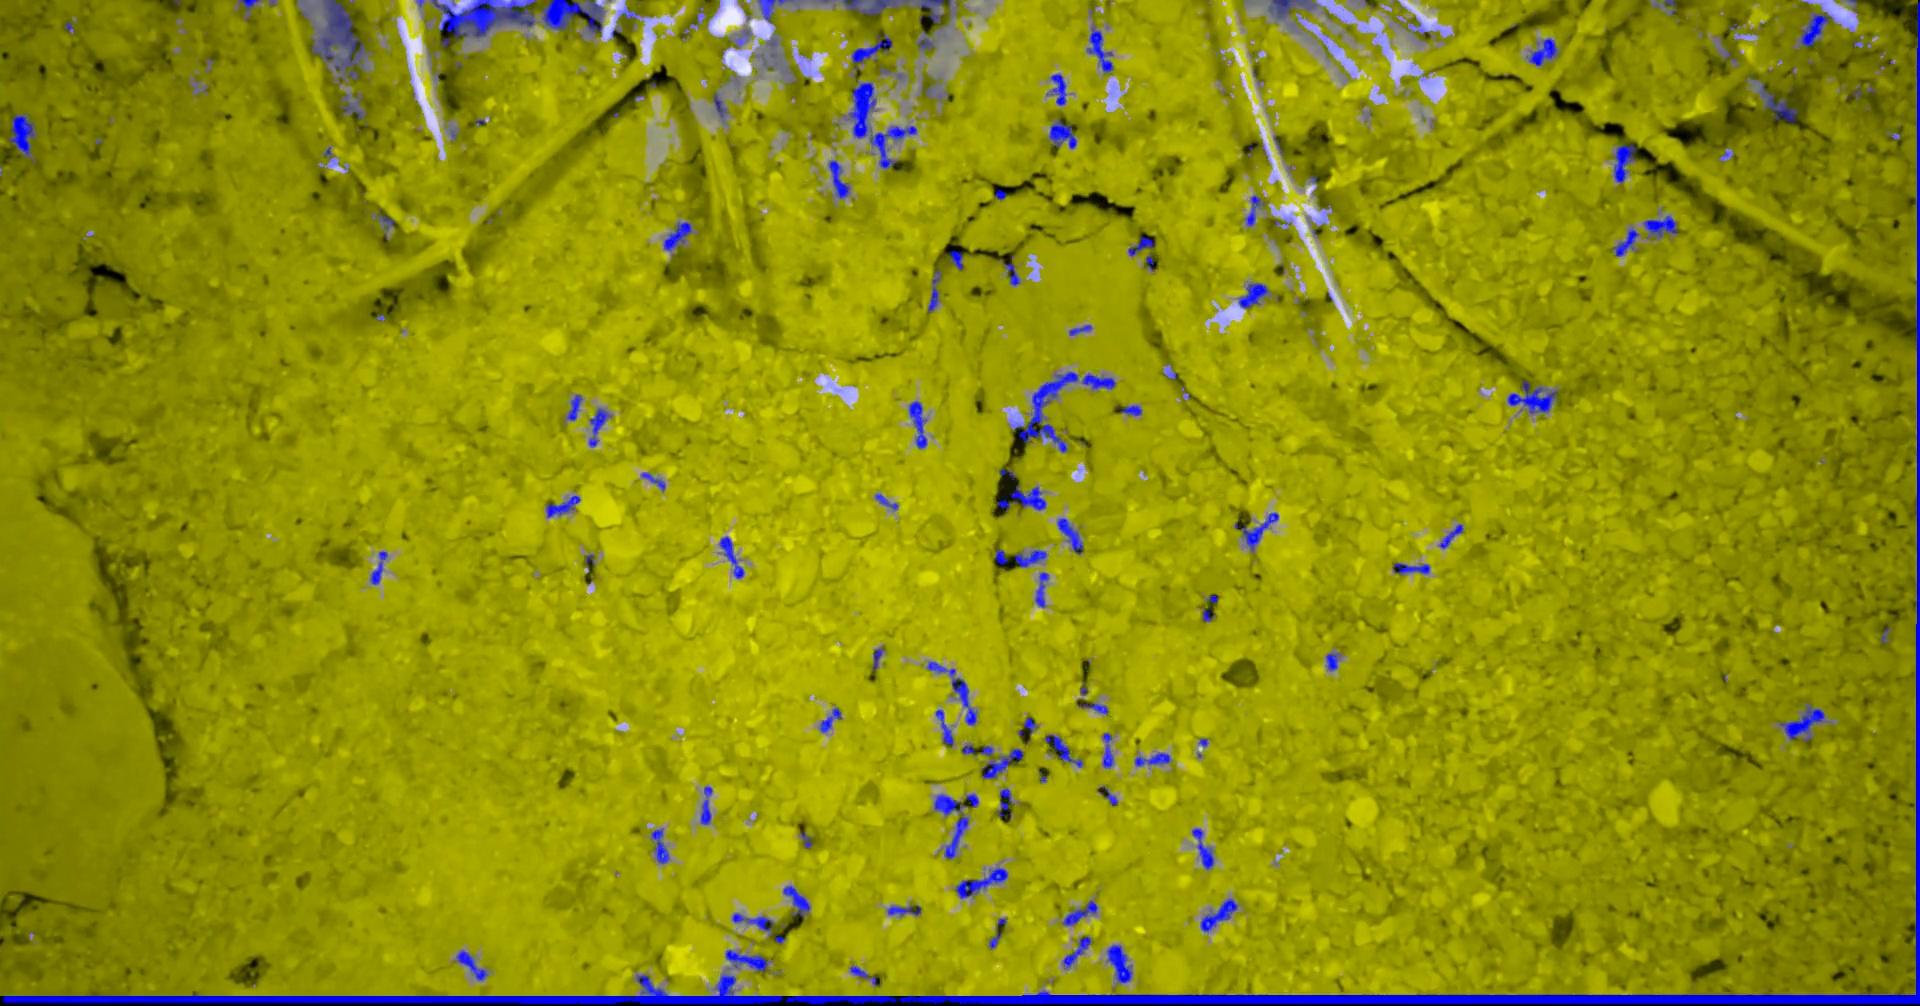ant: (926, 661, 977, 724), (933, 794, 968, 857), (1507, 379, 1557, 413), (1234, 512, 1277, 550), (955, 868, 1007, 898), (851, 32, 891, 70), (1779, 706, 1823, 741), (1760, 83, 1797, 122), (996, 484, 1045, 511), (982, 748, 1023, 779), (1044, 734, 1082, 767), (1199, 898, 1237, 931), (1086, 27, 1112, 72), (9, 113, 34, 156), (1801, 11, 1832, 46), (841, 0, 908, 15), (719, 536, 743, 578), (1106, 944, 1131, 982), (456, 950, 488, 981), (731, 912, 773, 935), (1057, 518, 1083, 553), (1063, 935, 1090, 969), (725, 949, 767, 970), (588, 406, 611, 446), (1191, 828, 1213, 869), (1613, 144, 1636, 182), (908, 400, 926, 448), (1077, 685, 1107, 713), (1269, 0, 1316, 18), (1063, 901, 1097, 925), (828, 160, 850, 198), (1048, 119, 1076, 149), (663, 221, 691, 250), (1526, 38, 1557, 65), (783, 885, 809, 917), (1643, 215, 1677, 238), (1611, 227, 1638, 257), (757, 0, 792, 22), (1238, 282, 1267, 307), (545, 495, 579, 517), (918, 0, 950, 23), (935, 709, 952, 746), (1046, 72, 1065, 105), (1013, 549, 1046, 567), (370, 551, 387, 584), (927, 269, 941, 311), (1439, 523, 1463, 547), (1244, 196, 1263, 225), (651, 829, 668, 862), (850, 967, 880, 984), (1081, 373, 1115, 389), (819, 708, 841, 732), (1134, 752, 1170, 766), (1128, 236, 1153, 255), (1392, 561, 1429, 574), (1035, 572, 1048, 607), (996, 788, 1011, 817), (700, 786, 711, 824), (340, 102, 364, 119), (640, 473, 664, 490), (566, 394, 582, 420), (1098, 785, 1117, 805), (1102, 732, 1112, 767), (875, 493, 897, 509), (712, 91, 726, 117), (1018, 716, 1036, 735), (917, 29, 933, 50), (888, 904, 919, 915), (1004, 262, 1018, 285), (988, 925, 1001, 948), (949, 249, 963, 269), (1068, 324, 1091, 335), (1119, 404, 1142, 415), (378, 213, 394, 229), (872, 647, 883, 669), (237, 0, 259, 10), (994, 547, 1007, 564), (1324, 653, 1337, 669), (800, 831, 811, 848), (965, 793, 978, 807), (1203, 608, 1214, 621)
